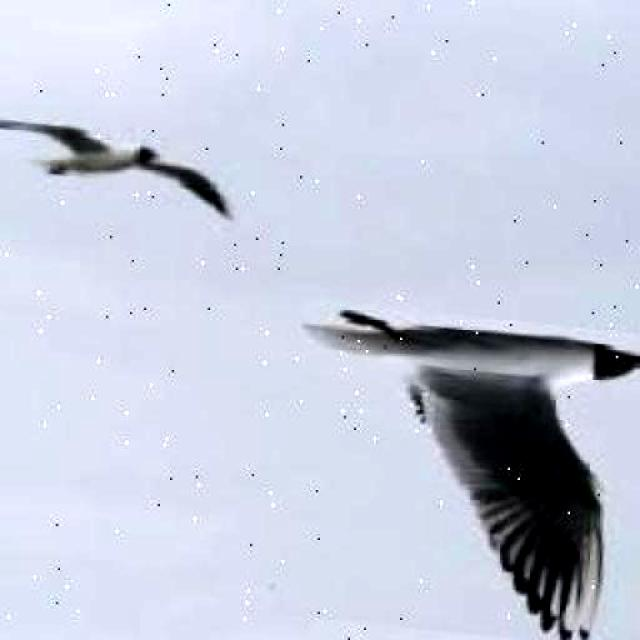airplane: (272, 299, 640, 640), (0, 111, 240, 215)
